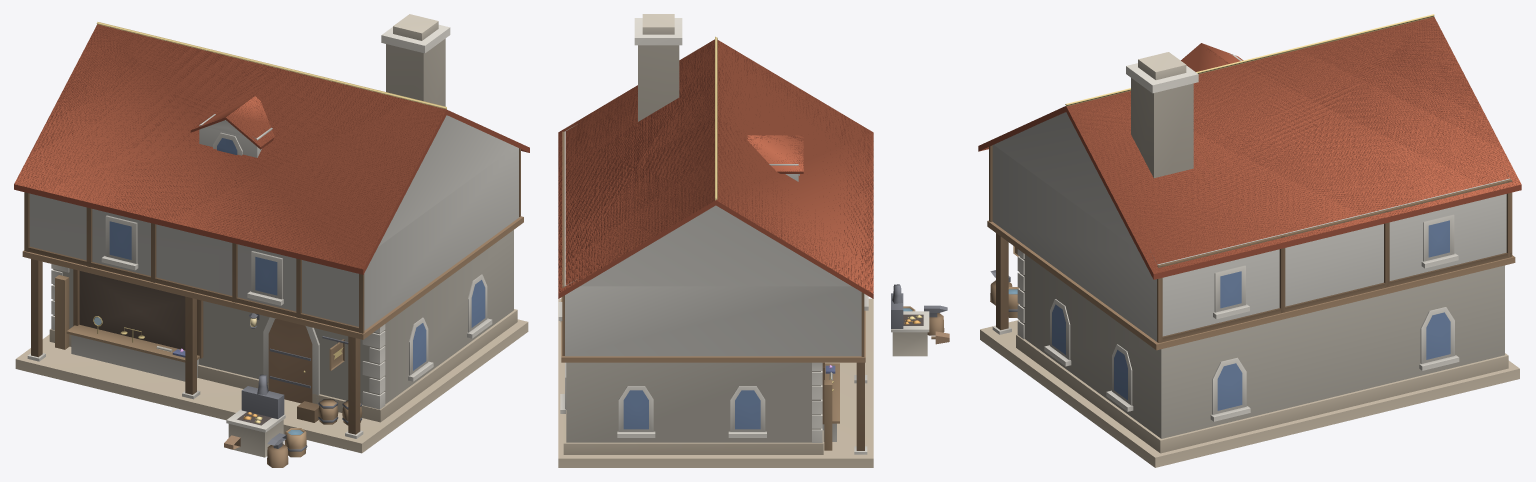
The model's file is smith_lite.glb.
The picture shows the model from 3 angles, left to right: view 1: azimuth 30°, elevation 25°; view 2: azimuth 150°, elevation 25°; view 3: azimuth 270°, elevation 25°; orthographic projection. The views are drawn at different scales.
Parts seen in each view (by area): view 1: Smith_roof, Smith_props, Smith_stone; view 2: Smith_roof, Smith_props, Smith_stone; view 3: Smith_roof, Smith_stone, Smith_props.
Boxes of the visible parts, x1,y1,x2,y2 form: Smith_roof: (14,24,529,274); Smith_props: (22,22,523,467); Smith_stone: (15,14,528,457); Smith_roof: (558,39,873,298); Smith_props: (561,36,949,450); Smith_stone: (558,14,929,467); Smith_roof: (978,17,1521,279); Smith_stone: (980,52,1519,467); Smith_props: (987,14,1515,410).
Size of the model in its own units: 14.57 by 10.9 by 15.34.
